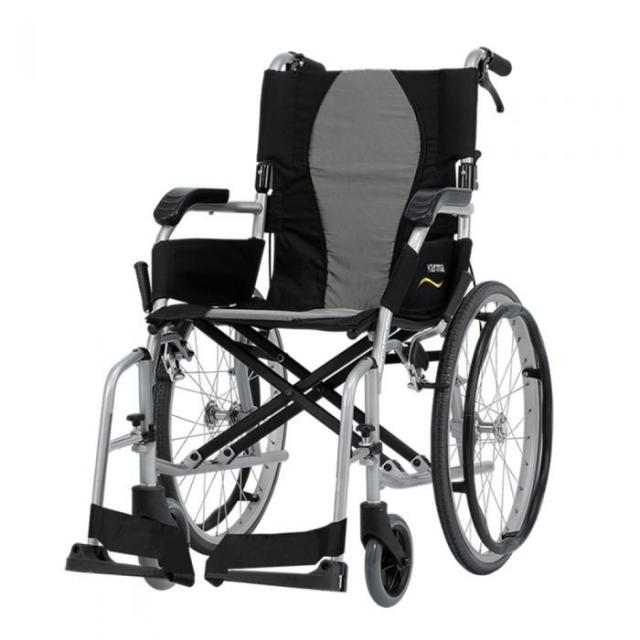wheelchair: (48, 24, 572, 614)
